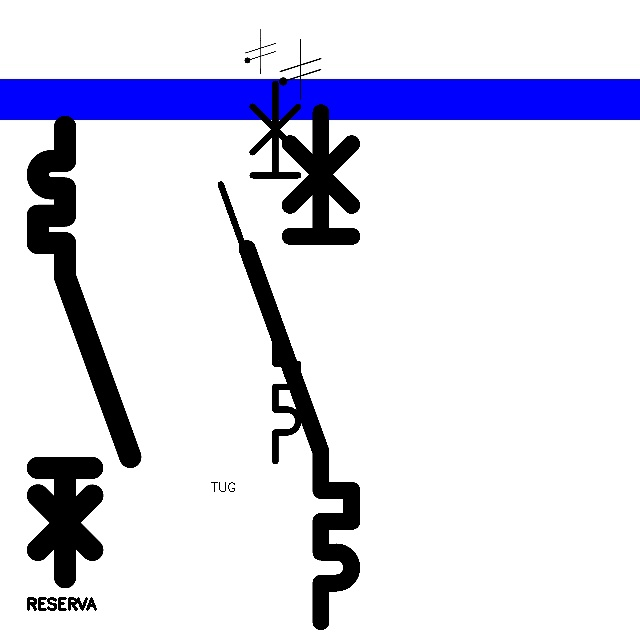interruptor_termomagnetico: (234, 99, 365, 634), (26, 115, 142, 589), (211, 73, 308, 470)
